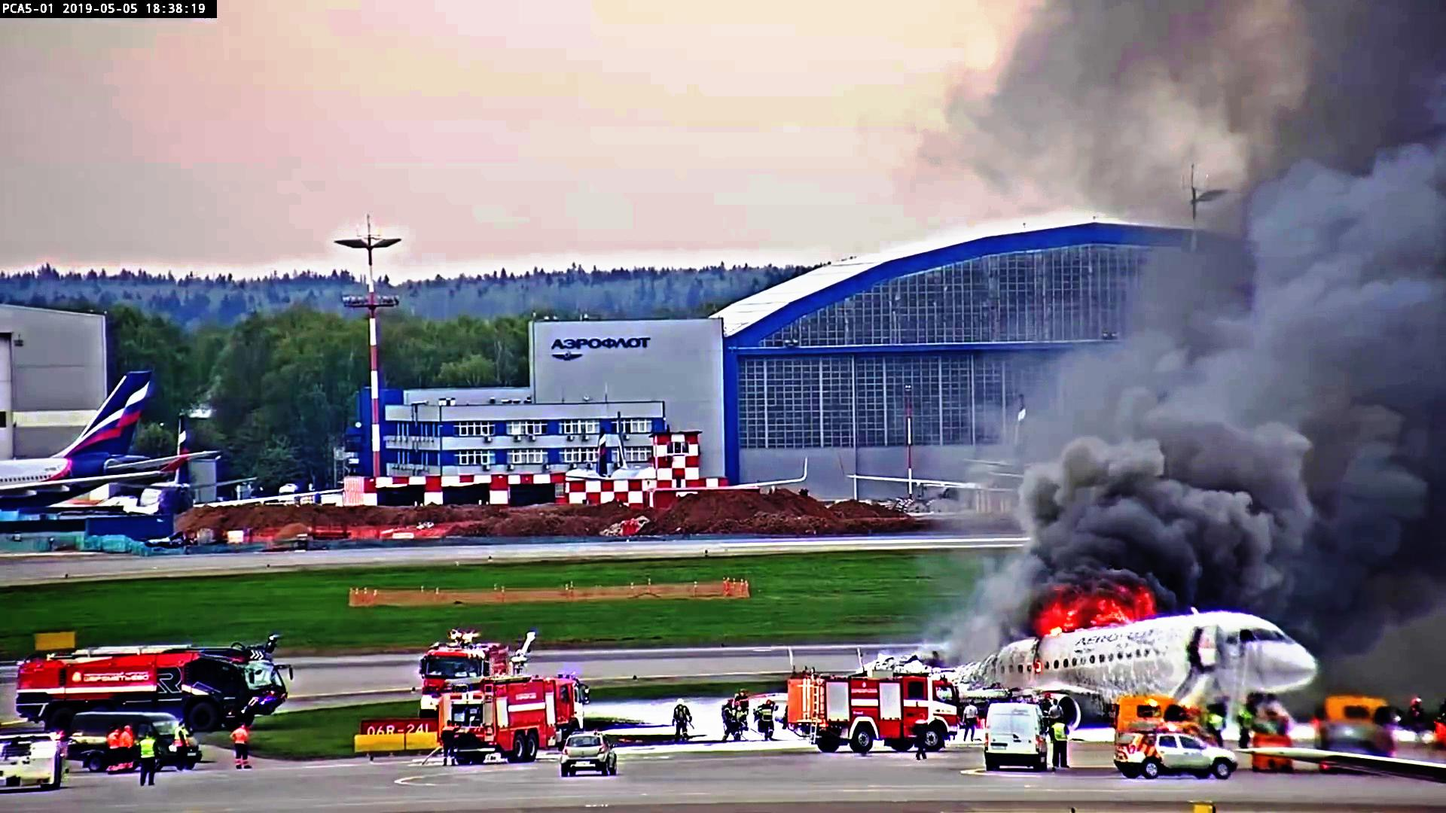fire: (1043, 595, 1147, 649)
smoke: (1234, 198, 1446, 467), (991, 401, 1288, 581)
